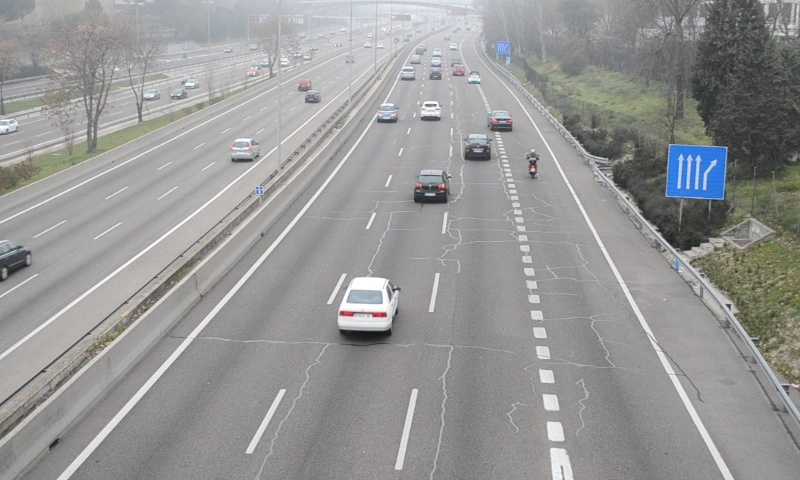car: (338, 277, 400, 331), (414, 171, 450, 202), (463, 134, 492, 158), (488, 110, 514, 133), (419, 101, 442, 122), (375, 103, 398, 122), (400, 65, 415, 81)
motorcycle: (526, 148, 540, 180)
